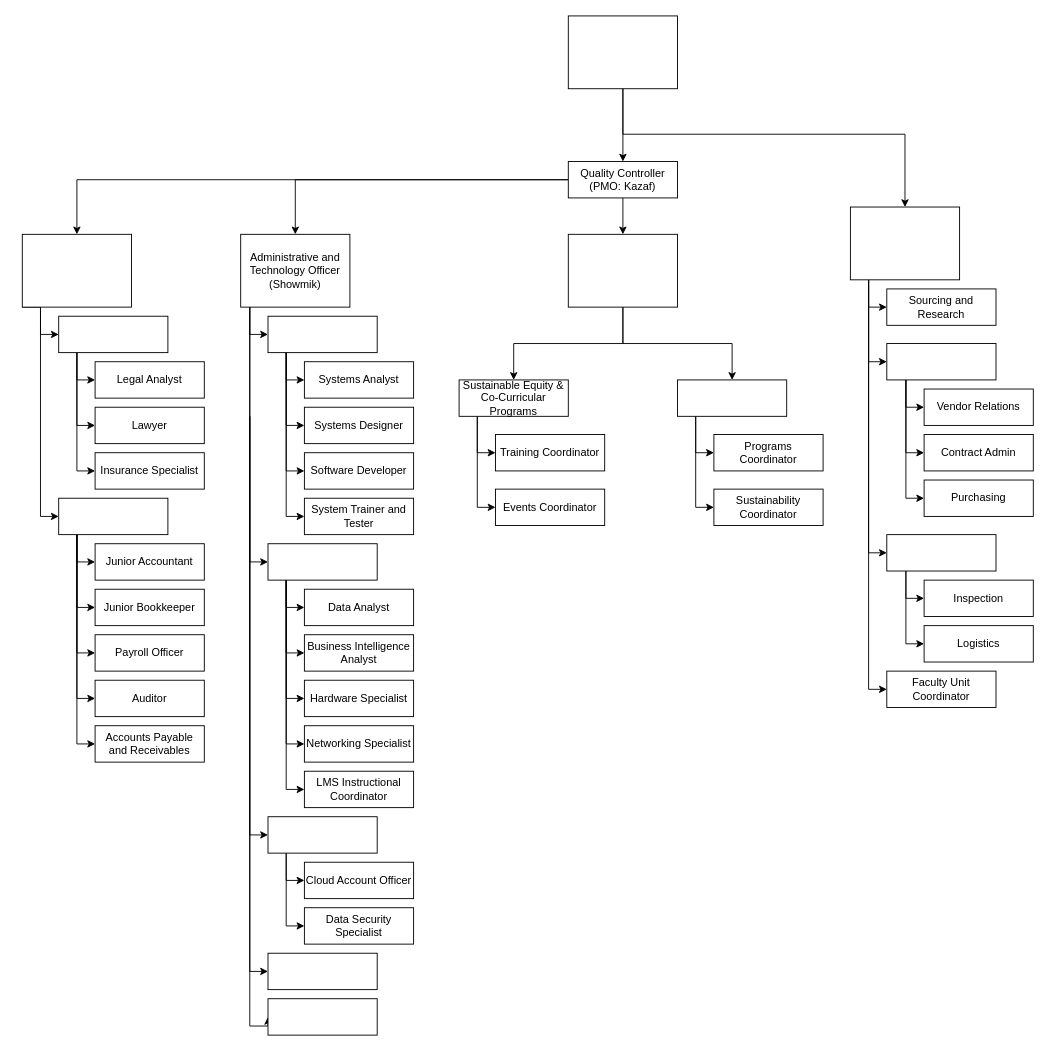
This 1049x1051 diagram has some shape labels left out. The shapes that lost their labels are listed below. From the top down, each one's box as (x1, y1, x2, y2) in pixels, then its label:
(567, 15, 677, 89): Project Manager (Adam)
(849, 206, 960, 280): Procurement Manager (Stephanie)
(21, 233, 131, 307): Finance and Governance Officer (Gio)
(567, 233, 677, 307): Sustainability Officer (Bridget)
(58, 315, 168, 353): Lead Legal
(267, 315, 377, 353): Software Development Lead
(886, 343, 996, 380): Procurement Administration
(677, 379, 787, 416): Sustainable Operational & Strategic Initiatives
(58, 497, 168, 535): Lead Accountant
(267, 543, 377, 580): IT Management and Infrastructure Lead
(886, 534, 996, 571): Materials Management
(267, 816, 377, 853): Cloud Service Head
(267, 952, 377, 990): Cyber and Information Security
(267, 998, 377, 1035): Technical and IT Support
